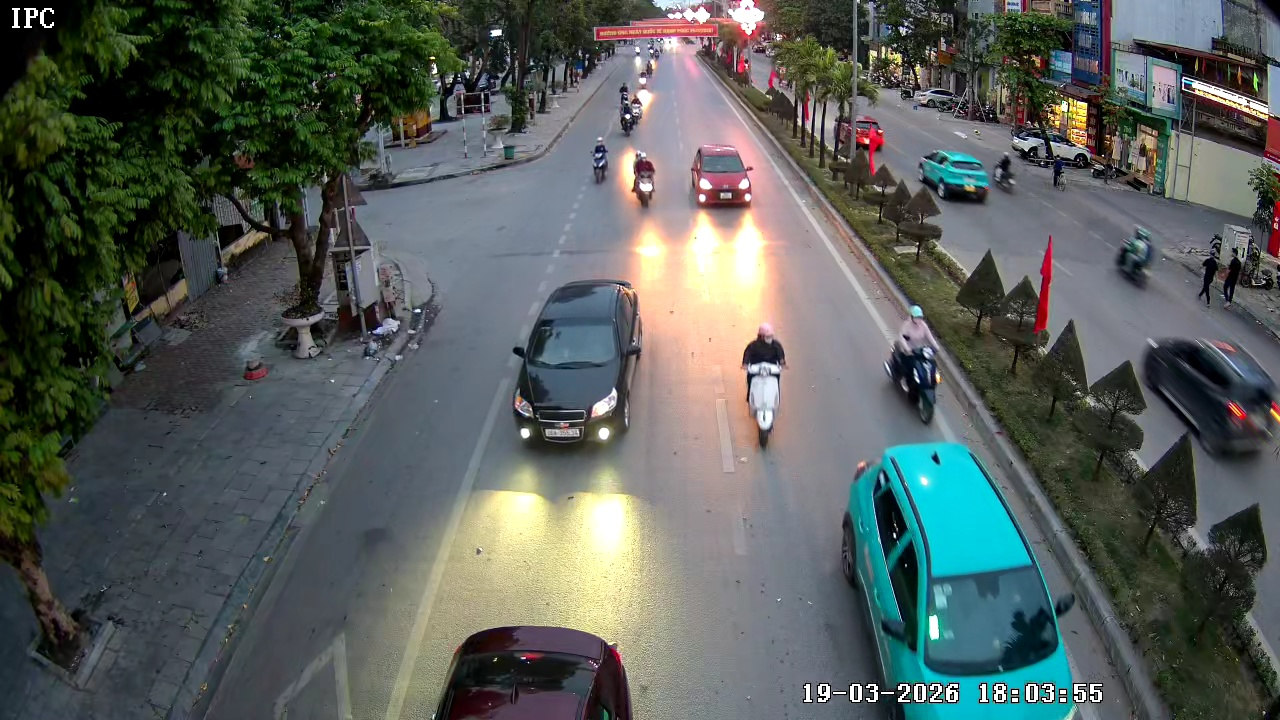car: (838, 442, 1099, 719), (510, 279, 645, 450), (1142, 336, 1279, 456), (688, 145, 753, 210), (918, 149, 991, 203)
motorbike: (884, 304, 943, 424), (740, 322, 787, 449), (1115, 224, 1155, 288), (625, 143, 658, 210), (589, 133, 613, 186), (615, 97, 636, 133)
pedestrian: (1197, 230, 1226, 306), (1226, 244, 1244, 308)
